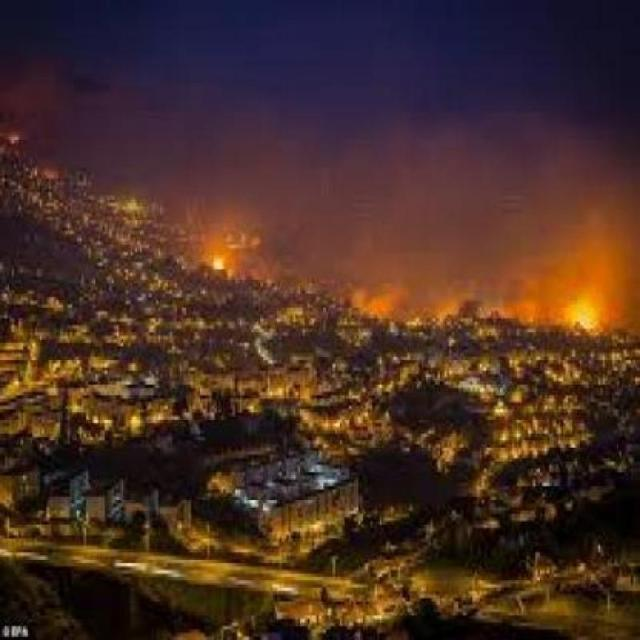Fire: (195, 236, 640, 350)
